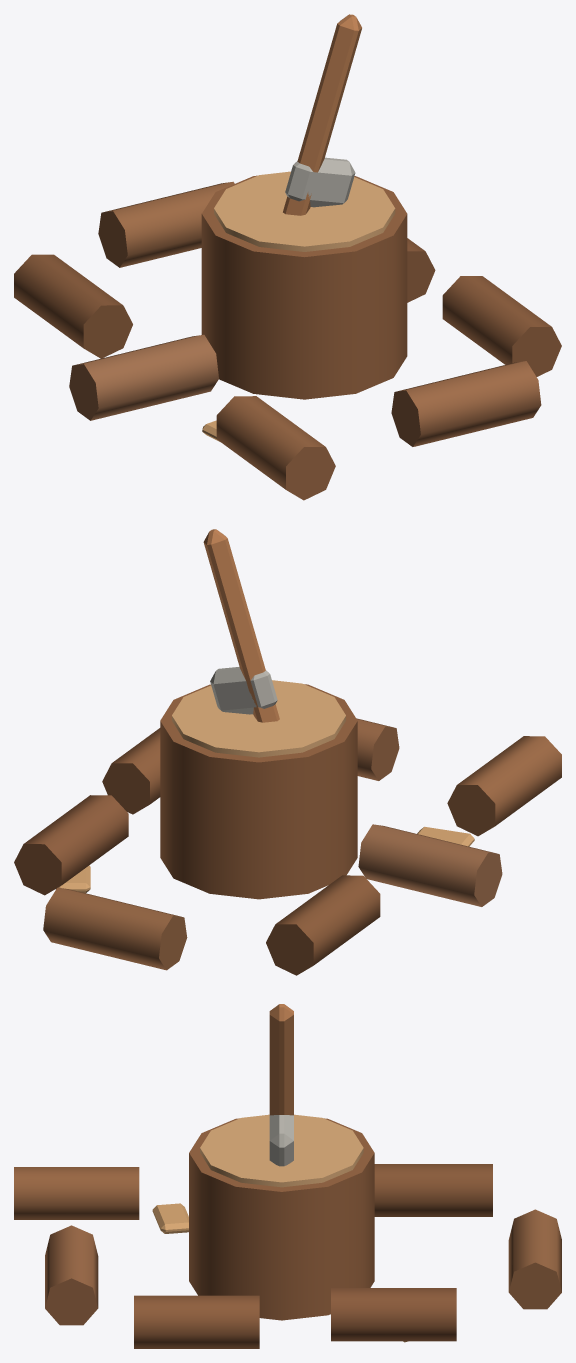
Rendered from chopping_block.glb.
3 views of the same model, one above another, from view 1: azimuth 30°, elevation 25°; view 2: azimuth 150°, elevation 25°; view 3: azimuth 270°, elevation 25° (orthographic). The views are drawn at different scales.
Visible parts, largest first — view 1: body; view 2: body; view 3: body.
Part boxes in pixels (left/top/right/bottom): body: left=14, top=14, right=561, bottom=500; body: left=14, top=529, right=561, bottom=975; body: left=14, top=1004, right=561, bottom=1348.
Bounding box in the file's own units: 1.55 × 1.2 × 2.01.
